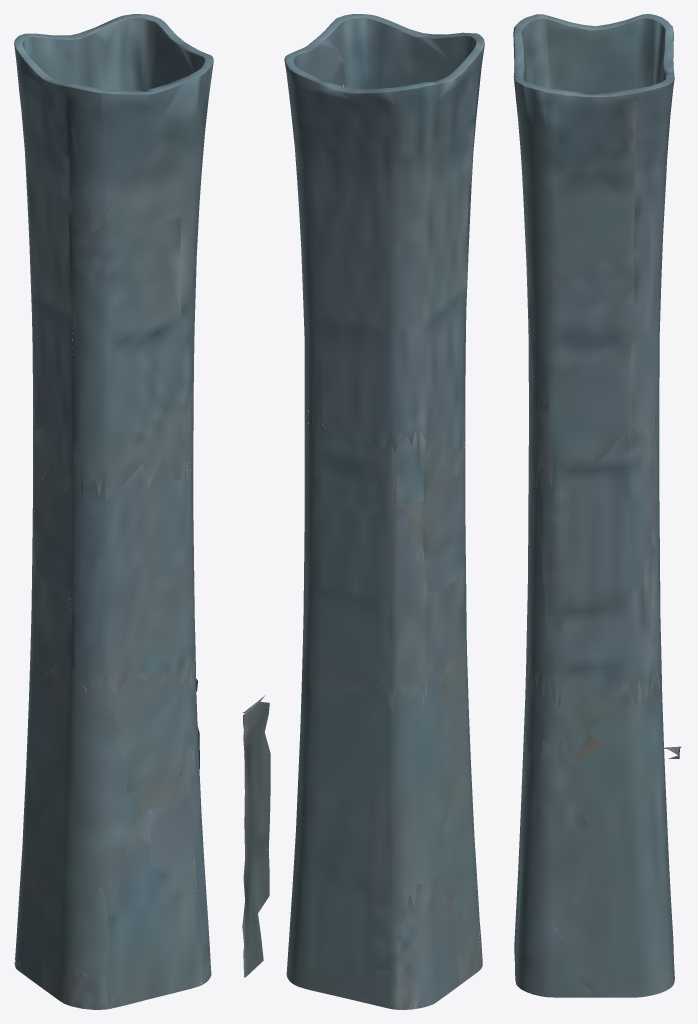
Rendered from preview.glb.
The picture shows the model from 3 angles, left to right: view 1: azimuth 30°, elevation 25°; view 2: azimuth 150°, elevation 25°; view 3: azimuth 270°, elevation 25°; orthographic projection.
Parts seen in each view (by area): view 1: guomao/tripo_node_7d982ce5-1c3a-4cdc-8f62-3cada967e351; view 2: guomao/tripo_node_7d982ce5-1c3a-4cdc-8f62-3cada967e351; view 3: guomao/tripo_node_7d982ce5-1c3a-4cdc-8f62-3cada967e351.
Boxes of the visible parts, <box> form: guomao/tripo_node_7d982ce5-1c3a-4cdc-8f62-3cada967e351: <box>14,14,213,1009</box>; guomao/tripo_node_7d982ce5-1c3a-4cdc-8f62-3cada967e351: <box>242,14,484,1009</box>; guomao/tripo_node_7d982ce5-1c3a-4cdc-8f62-3cada967e351: <box>513,14,680,997</box>.
Size of the model in its own units: 1.04 by 5.28 by 0.891.
Materials: 1 (1 with a texture image).
